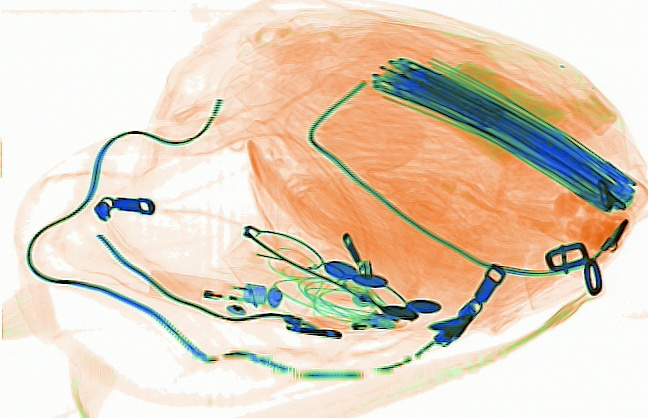lighter: (146, 266, 269, 307), (299, 308, 399, 332)
